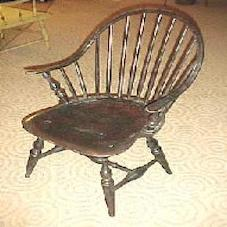chair: (5, 7, 206, 216)
